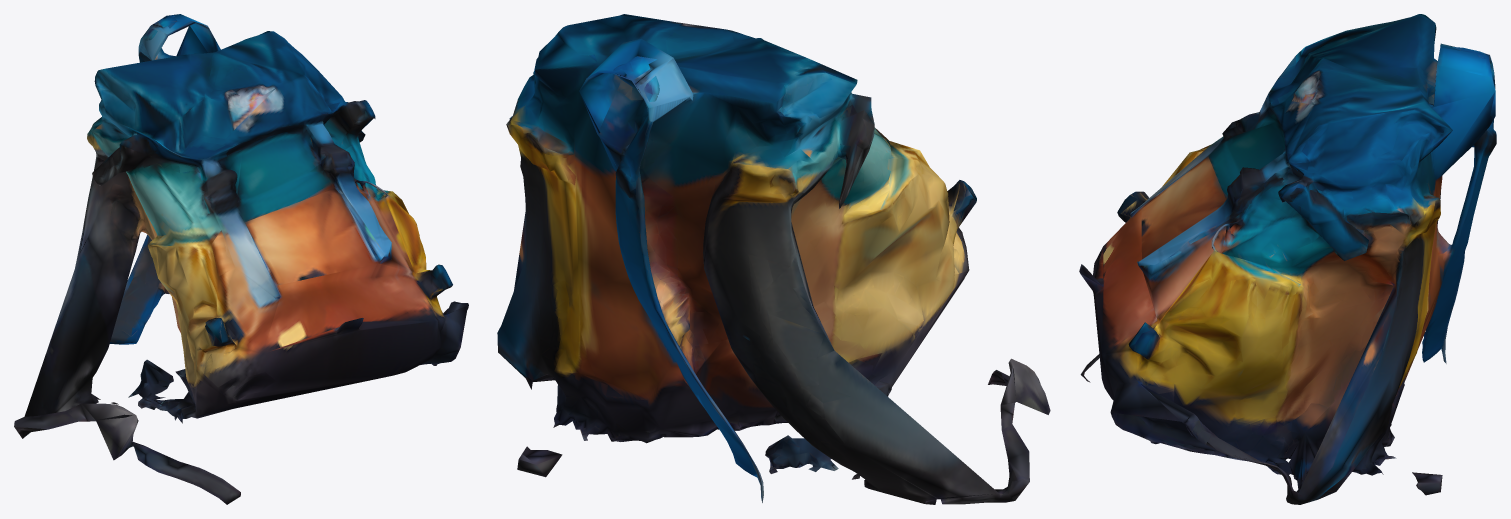
File: rucksack-3d.glb
3 views of the same model, side by side, from view 1: azimuth 30°, elevation 25°; view 2: azimuth 150°, elevation 25°; view 3: azimuth 270°, elevation 25° (orthographic). The views are drawn at different scales.
Parts seen in each view (by area): view 1: input; view 2: input; view 3: input.
Part boxes in pixels (x1,y1,x2,y2): input: (14,14,468,504); input: (497,14,1050,504); input: (1079,14,1496,504).
Size of the model in its own units: 0.4489 by 0.3669 by 0.3505.
1 material, 1 textured.
